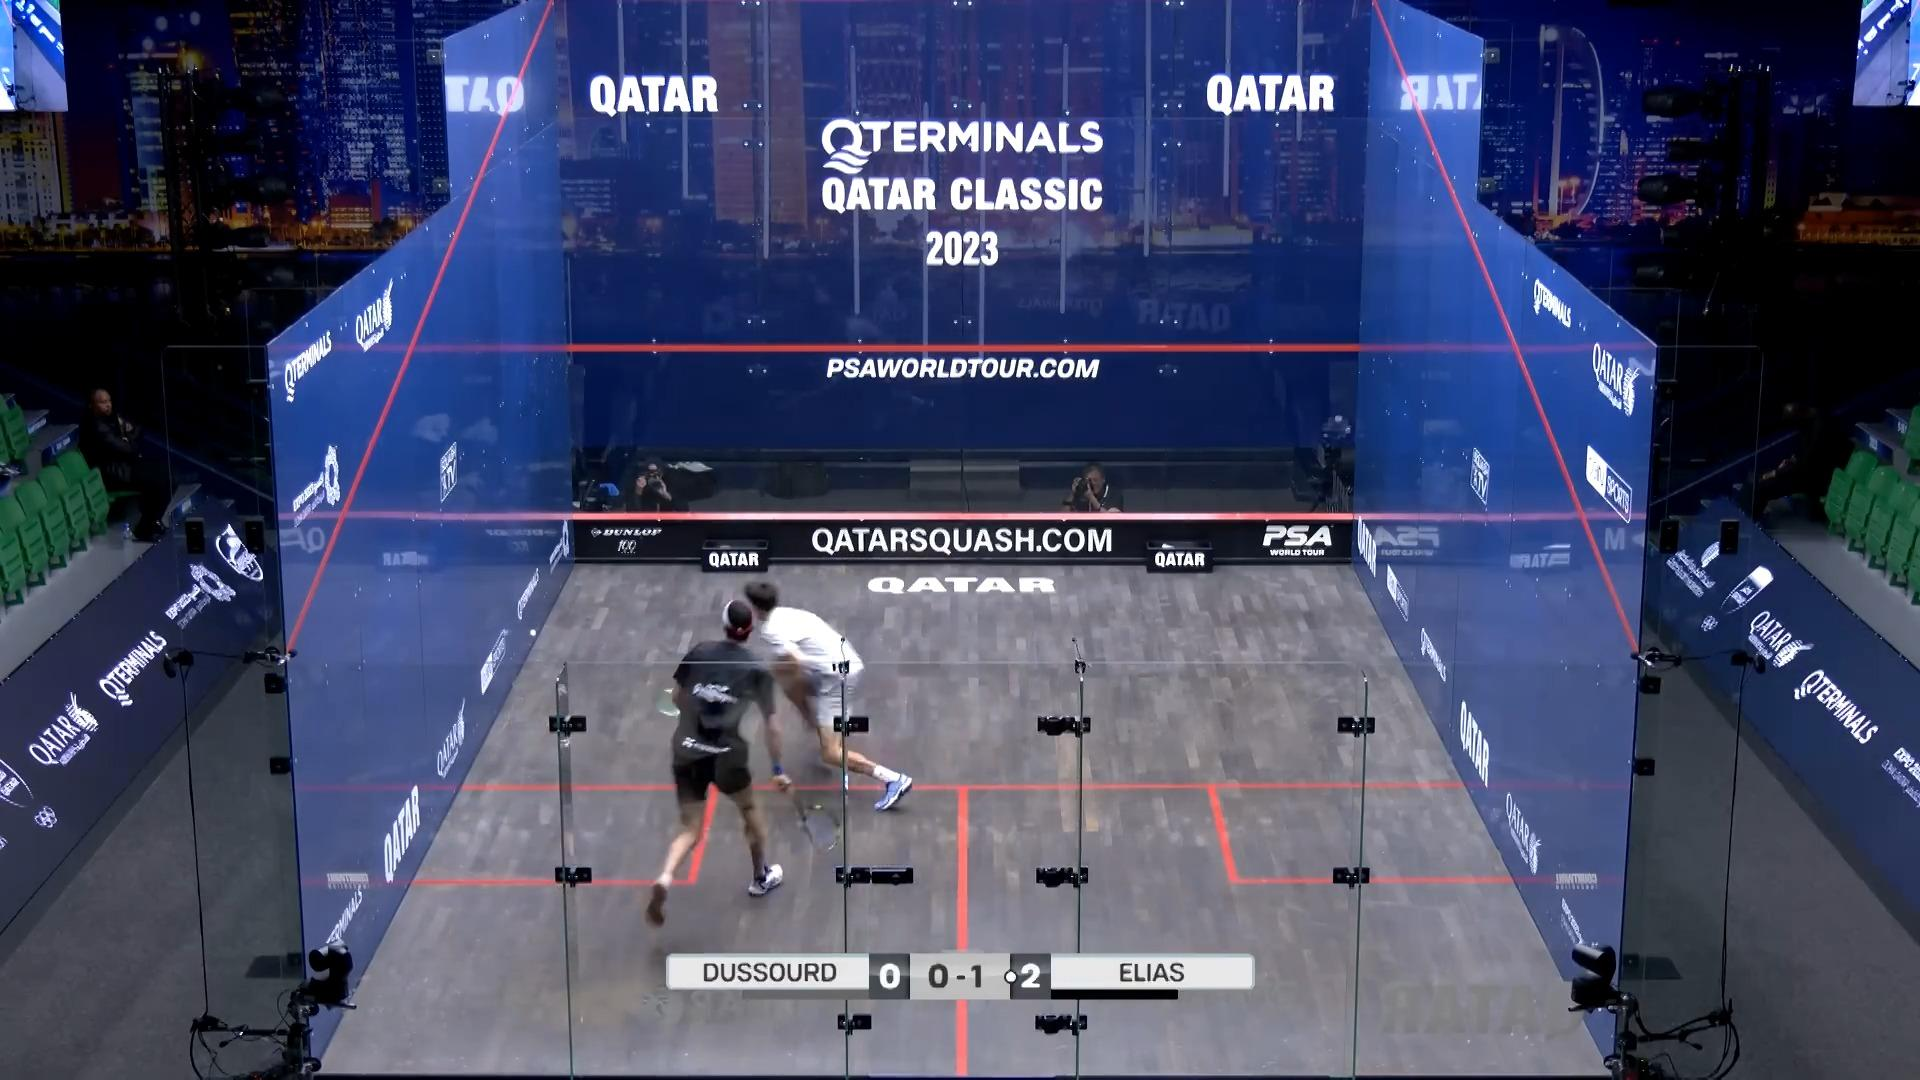Racket: (791, 794, 843, 861)
